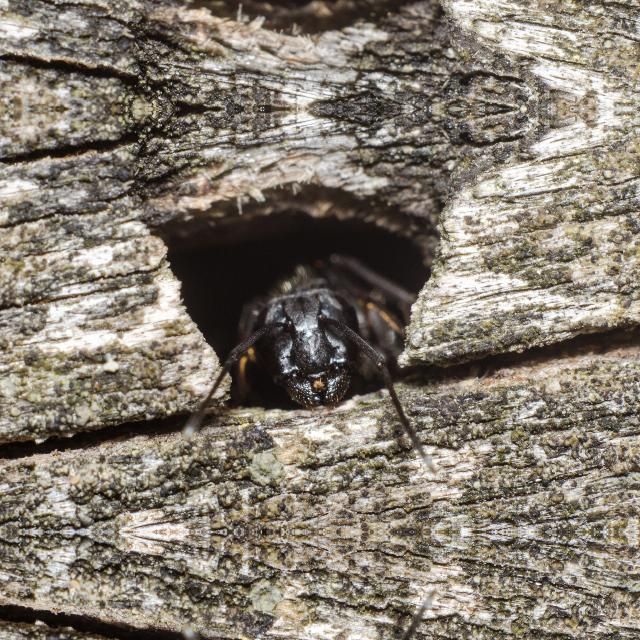Camponotus: (210, 210, 422, 450)
